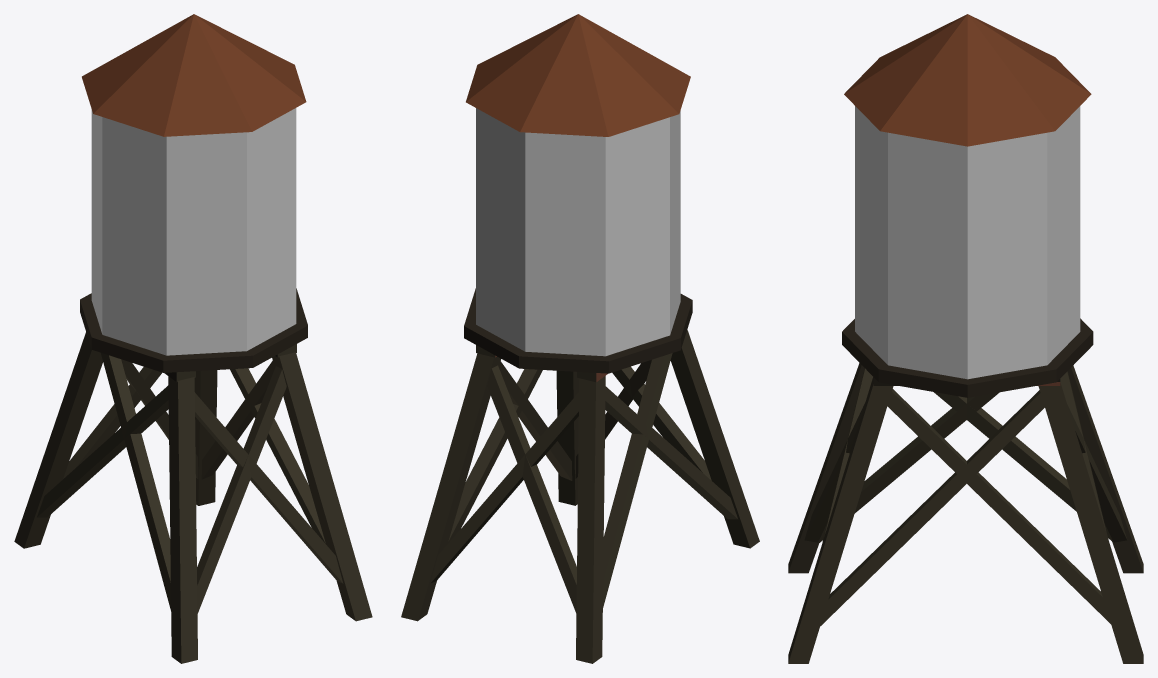
File: Water tank.fbx
The picture shows the model from 3 angles, left to right: view 1: azimuth 30°, elevation 25°; view 2: azimuth 150°, elevation 25°; view 3: azimuth 270°, elevation 25°; orthographic projection. The views are drawn at different scales.
Parts seen in each view (by area): view 1: water tank; view 2: water tank; view 3: water tank.
Boxes of the visible parts, <box> form: water tank: <box>14,14,372,663</box>; water tank: <box>401,14,759,663</box>; water tank: <box>788,14,1143,663</box>.
Bounding box in the file's own units: 223 × 589 × 316.
2 materials, 1 textured.
